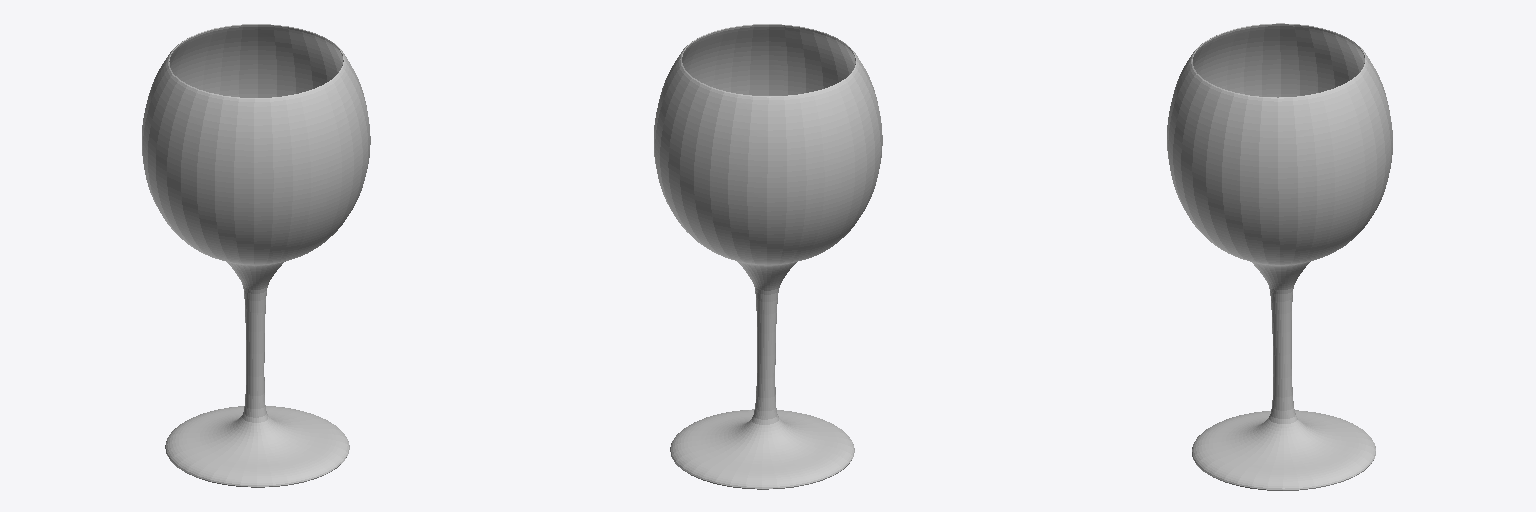
The model's file is wineglassgoblet.obj.
3 renders of one model, left to right at view 1: azimuth 30°, elevation 25°; view 2: azimuth 150°, elevation 25°; view 3: azimuth 270°, elevation 25°, orthographic.
Size of the model in its own units: 2.52 by 4.75 by 2.48.